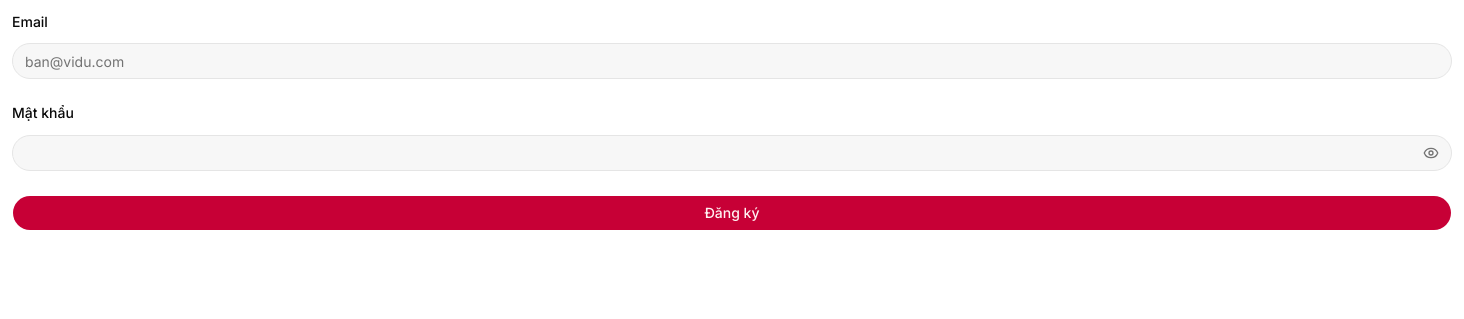
Test: RegisterForm — lỗi cấp form (bảng E4) › mất mạng: không đoán nguyên nhân, không nhớ email
The image size is (1464, 319).
Type "an@example.com" into the field labelled "Email" at (732, 61), box top-left (12, 43), bottom-right (1452, 79)
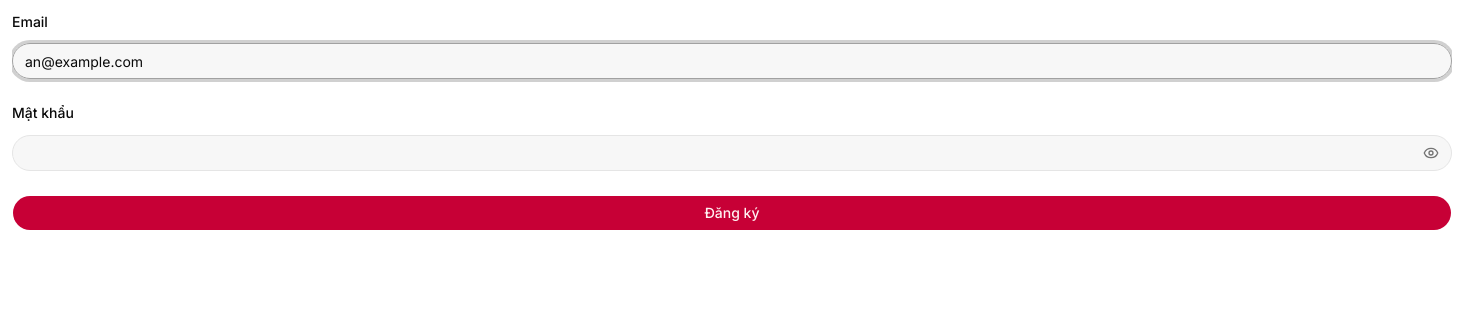
Type "MatKhau123" into the password field labelled "Mật khẩu" at (716, 152), box top-left (13, 134), bottom-right (1419, 170)
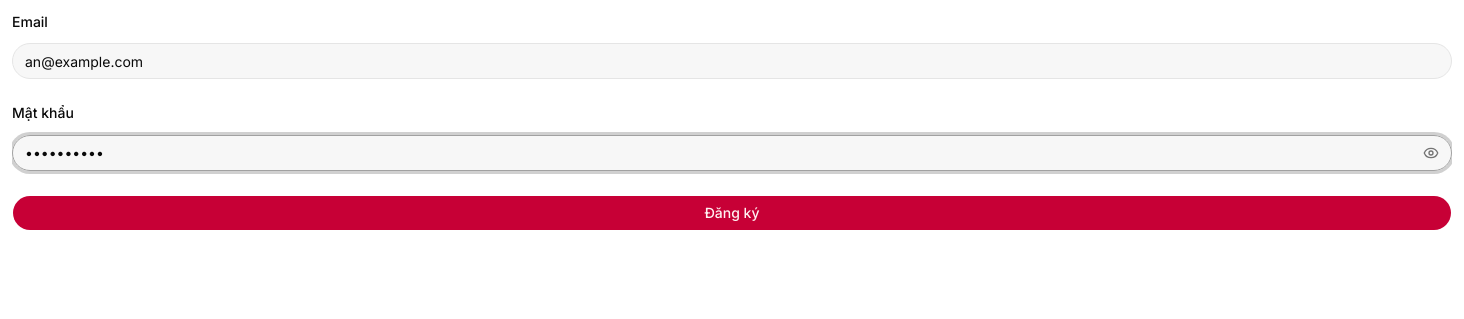
Click the button "Đăng ký" at (732, 212), box top-left (12, 194), bottom-right (1452, 230)
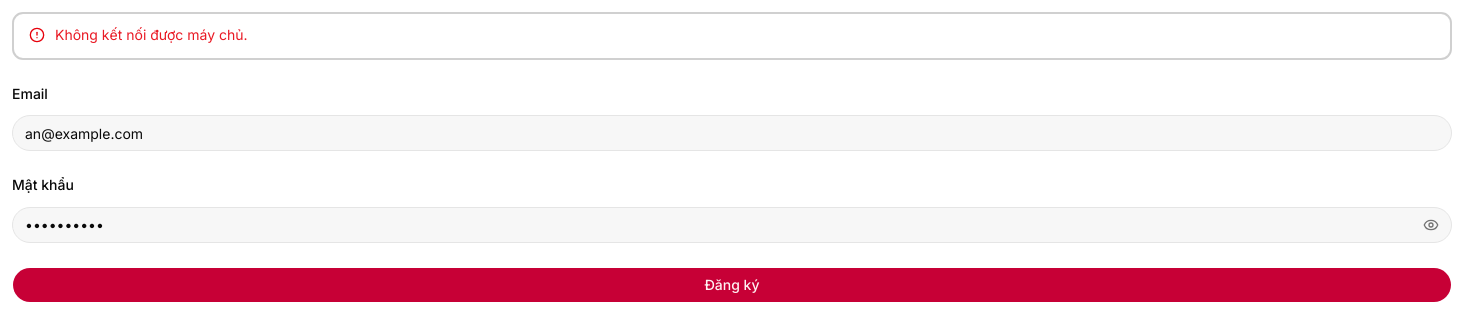
Now the message reads "Không kết nối được máy chủ.", box top-left (55, 26), bottom-right (248, 43)
